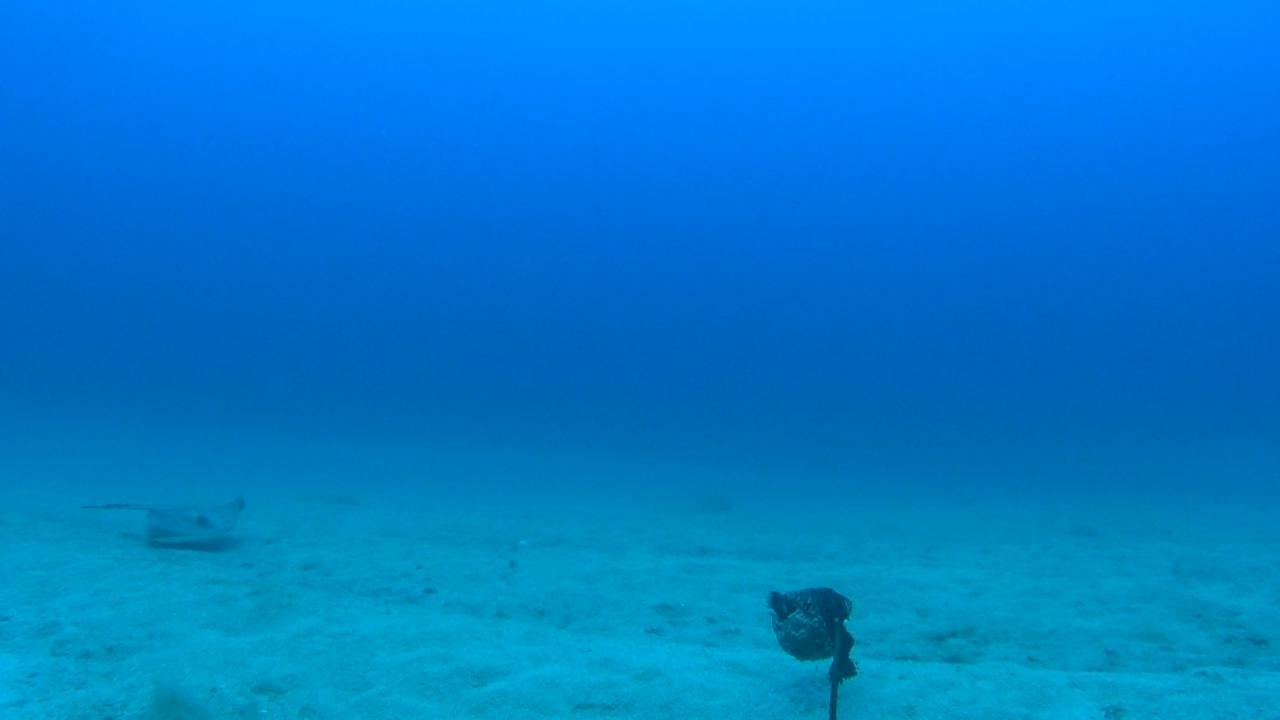dasyatis: (81, 494, 248, 544)
